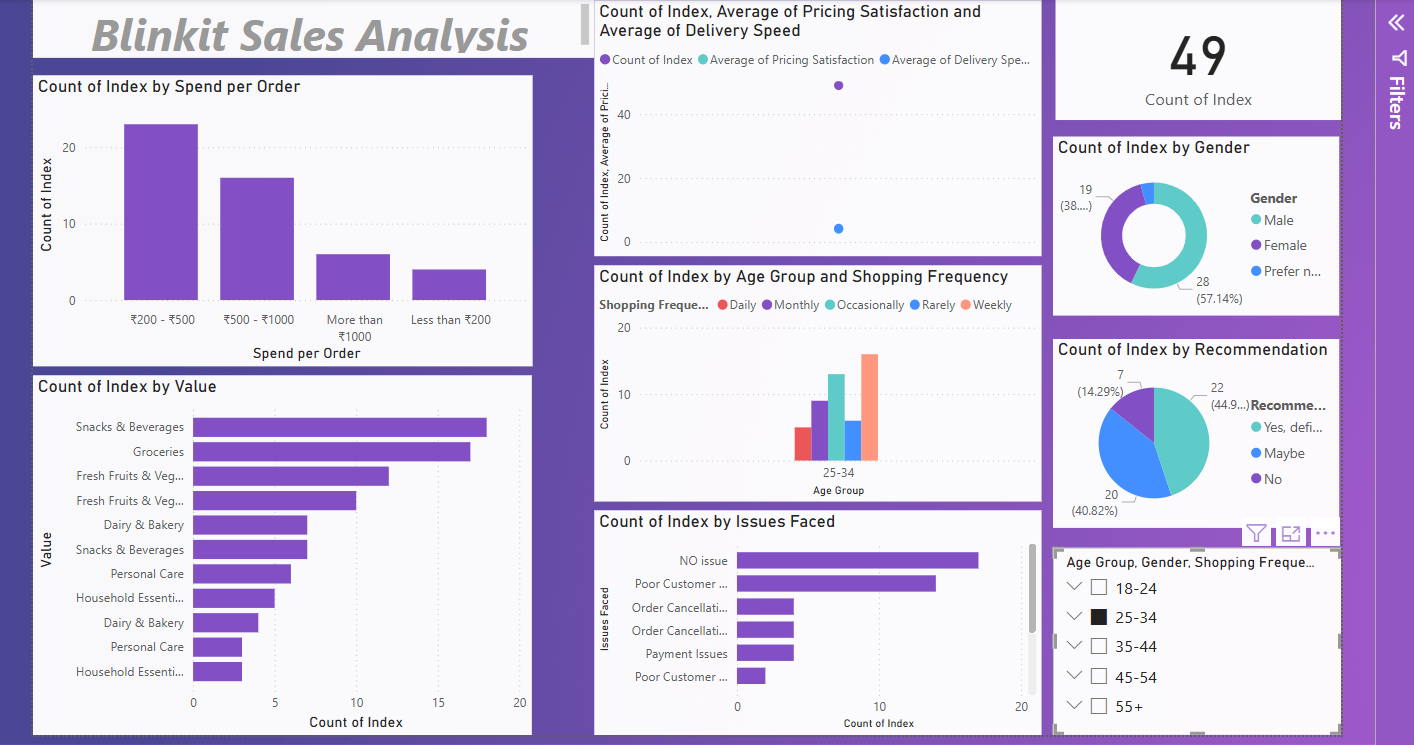

What the dashboard file says about the page in this screenshot:
{"tool":"powerbi","page":{"name":"Page 1","canvas":[1280,720],"ordinal":0},"visuals":[{"type":"card","fields":{"Values":["Count(Sheet1 (2).Index)"]},"box":[1000.3,8.6,280,118.6],"z":0},{"type":"donutChart","fields":{"Category":["Sheet1 (2).Gender"],"Y":["Count(Sheet1 (2).Index)"]},"box":[999.1,141.8,280,174.9],"z":1000},{"type":"clusteredColumnChart","fields":{"Category":["Sheet1 (2).Age Group"],"Series":["Sheet1 (2).Shopping Frequency"],"Y":["Count(Sheet1 (2).Index)"]},"box":[549.1,260.5,437.8,231.1],"z":3000},{"type":"lineStackedColumnComboChart","fields":{"Category":["Sheet1 (2).Spend per Order"],"Y":["Count(Sheet1 (2).Index)"]},"box":[0,74.6,489.1,284.9],"z":4000},{"type":"clusteredBarChart","fields":{"Category":["Sheet1 (2).Value"],"Y":["Count(Sheet1 (2).Index)"]},"box":[0,368.1,487.9,352.2],"z":5000},{"type":"lineChart","fields":{"Y":["Count(Sheet1 (2).Index)","Avg(Sheet1 (2).Pricing Satisfaction)","Avg(Sheet1 (2).Delivery Speed)"]},"box":[549.1,1.2,437.8,250.7],"z":7000},{"type":"clusteredBarChart","fields":{"Category":["Sheet1 (2).Issues Faced"],"Y":["Count(Sheet1 (2).Index)"]},"box":[549.1,500.1,437.8,220.1],"z":8000},{"type":"pieChart","fields":{"Category":["Sheet1 (2).Recommendation"],"Y":["Count(Sheet1 (2).Index)"]},"box":[1000.3,335.1,280,184.6],"z":9000},{"type":"slicer","fields":{"Values":["Sheet1 (2).Age Group","Sheet1 (2).Gender","Sheet1 (2).Shopping Frequency"]},"box":[997.8,536.8,282.5,183.4],"z":10000},{"type":"textbox","box":[0,0,549.1,57.5],"z":12000}]}

Visuals, with their boxes in screenshot pixels (x1, y1, x2, y2):
card - Count(Sheet1 (2).Index): [x1=1049, y1=5, x2=1334, y2=126]
donutChart - Sheet1 (2).Gender x Count(Sheet1 (2).Index): [x1=1047, y1=141, x2=1333, y2=319]
clusteredColumnChart - Sheet1 (2).Age Group x Sheet1 (2).Shopping Frequency: [x1=589, y1=262, x2=1035, y2=497]
lineStackedColumnComboChart - Sheet1 (2).Spend per Order x Count(Sheet1 (2).Index): [x1=29, y1=72, x2=528, y2=363]
clusteredBarChart - Sheet1 (2).Value x Count(Sheet1 (2).Index): [x1=29, y1=371, x2=527, y2=730]
lineChart - Count(Sheet1 (2).Index) x Avg(Sheet1 (2).Pricing Satisfaction): [x1=589, y1=0, x2=1035, y2=253]
clusteredBarChart - Sheet1 (2).Issues Faced x Count(Sheet1 (2).Index): [x1=589, y1=506, x2=1035, y2=730]
pieChart - Sheet1 (2).Recommendation x Count(Sheet1 (2).Index): [x1=1049, y1=338, x2=1334, y2=526]
slicer - Sheet1 (2).Age Group x Sheet1 (2).Gender: [x1=1046, y1=543, x2=1334, y2=730]
textbox: [x1=29, y1=0, x2=589, y2=55]
